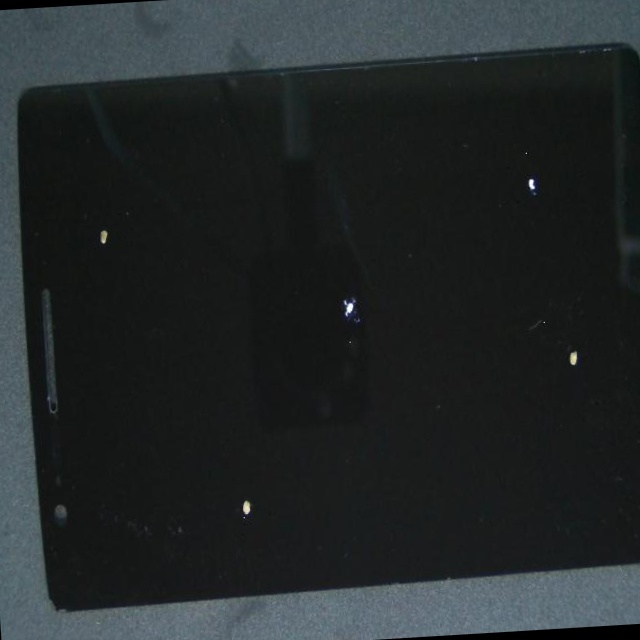stain: (287, 113, 640, 524), (150, 163, 523, 549), (87, 225, 370, 640), (229, 59, 640, 332), (19, 116, 161, 388)
